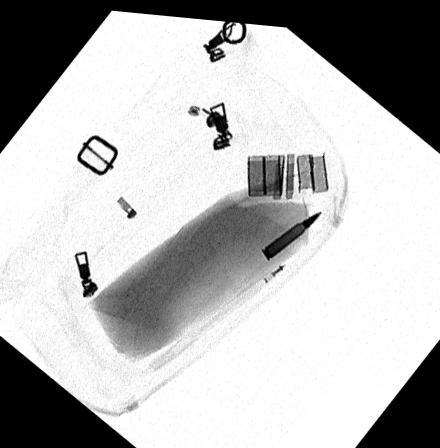Bullet: (259, 202, 322, 256)
